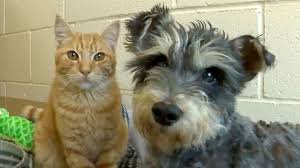cat: (31, 13, 135, 165)
dog: (109, 5, 296, 165)
